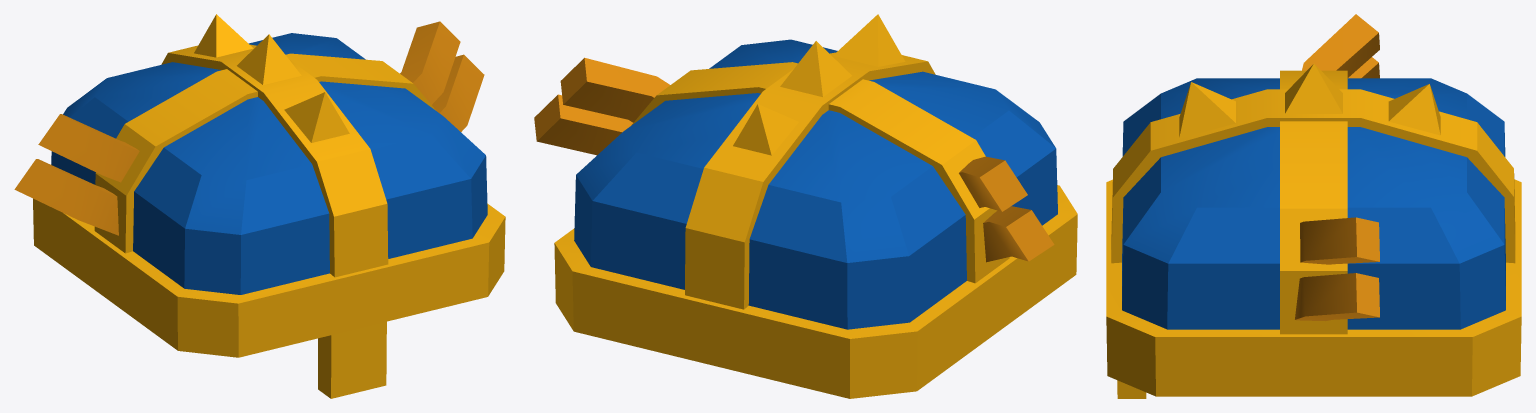
The model's file is Helmet 02.FBX.
3 renders of one model, left to right at view 1: azimuth 30°, elevation 25°; view 2: azimuth 150°, elevation 25°; view 3: azimuth 270°, elevation 25°, orthographic. The views are drawn at different scales.
Visible parts, largest first — view 1: Helmet 02; view 2: Helmet 02; view 3: Helmet 02.
Part boxes in pixels (left/top/right/bottom): Helmet 02: left=14, top=14, right=505, bottom=398; Helmet 02: left=534, top=14, right=1077, bottom=398; Helmet 02: left=1106, top=14, right=1521, bottom=398.
Size of the model in its own units: 92.79 by 55.19 by 64.75.
1 material, 1 textured.
